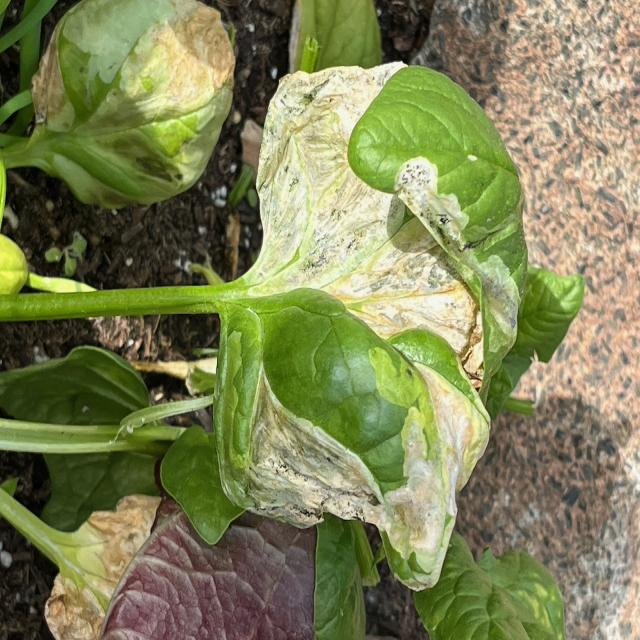rotten spinach: (206, 65, 587, 588), (31, 2, 247, 197)
